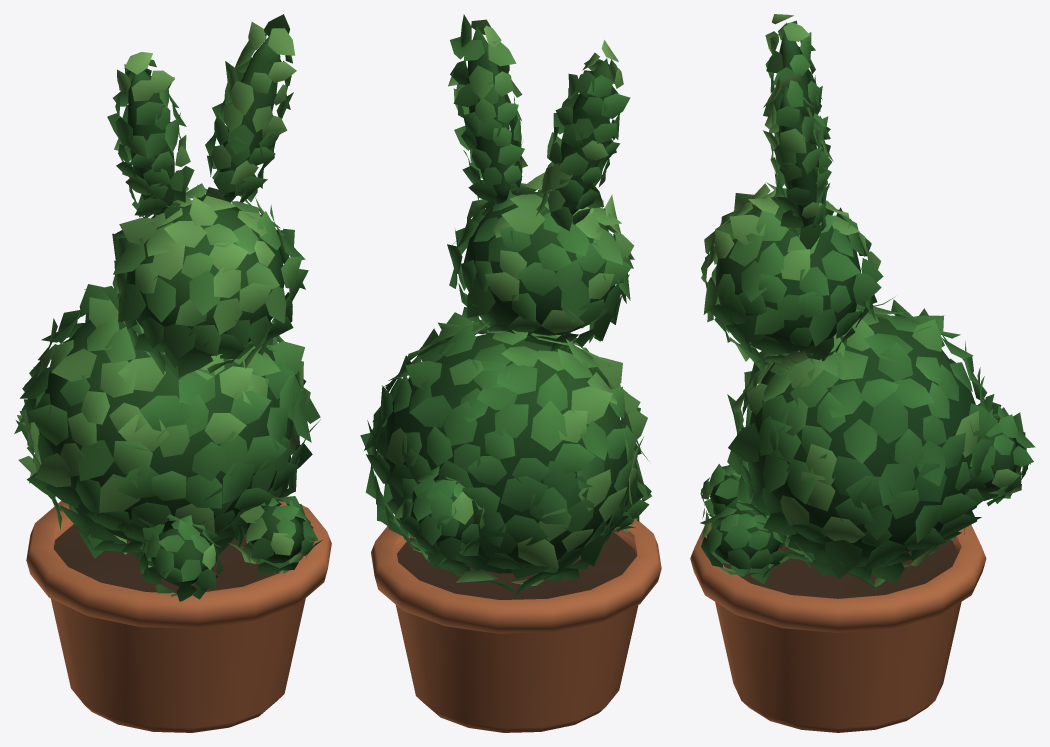
The model's file is furn_dp_topiary.glb.
The picture shows the model from 3 angles, left to right: view 1: azimuth 30°, elevation 25°; view 2: azimuth 150°, elevation 25°; view 3: azimuth 270°, elevation 25°; orthographic projection. The views are drawn at different scales.
Visible parts, largest first — view 1: furn_dp_topiary_main; view 2: furn_dp_topiary_main; view 3: furn_dp_topiary_main.
Part boxes in pixels (x1=…): furn_dp_topiary_main: x1=14, y1=14, x2=331, y2=732; furn_dp_topiary_main: x1=360, y1=14, x2=661, y2=732; furn_dp_topiary_main: x1=690, y1=14, x2=1035, y2=732.
Bounding box in the file's own units: 0.4824 × 1.16 × 0.5599.
